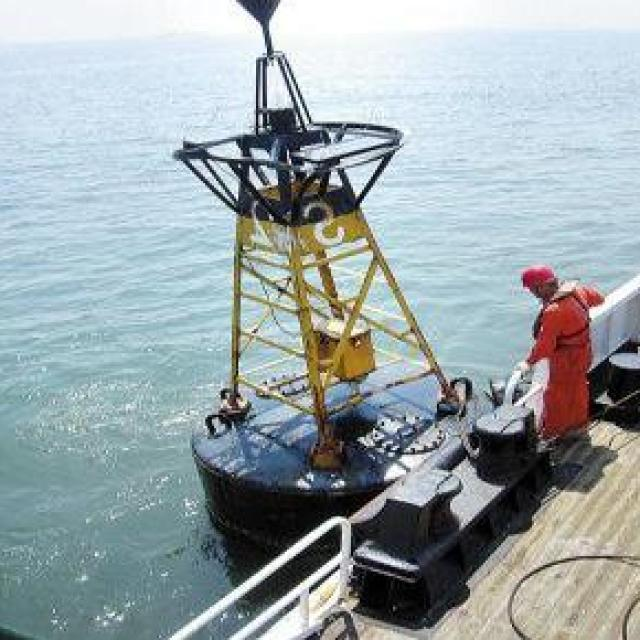buoy: (175, 0, 494, 534)
